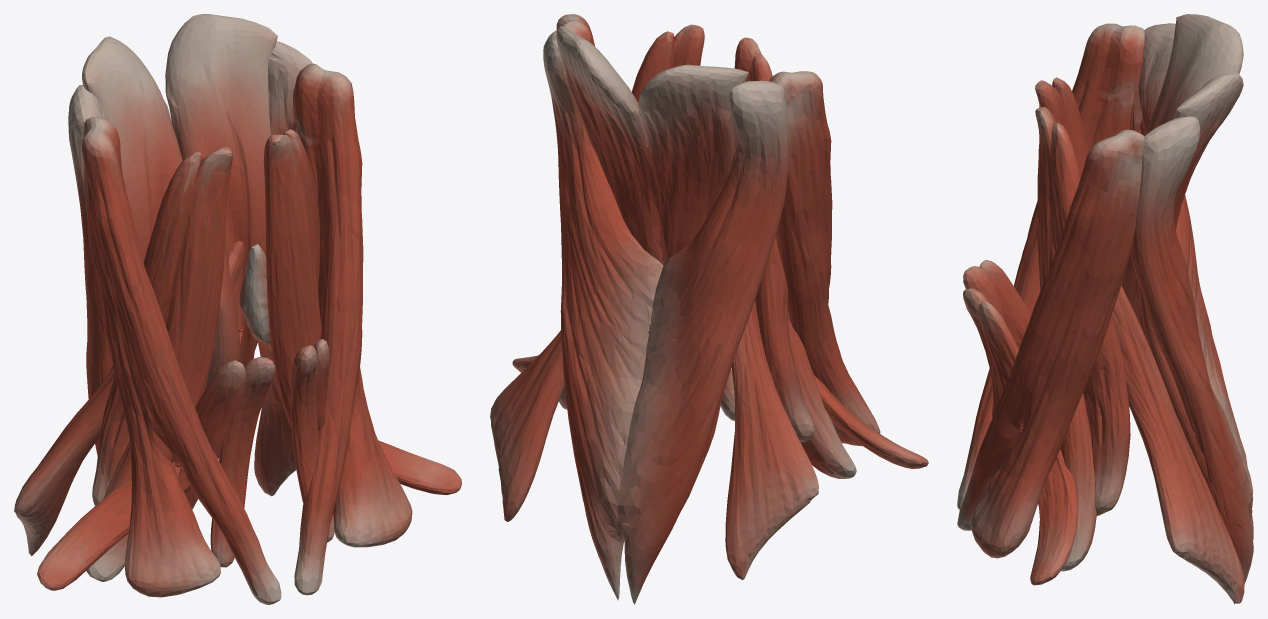
Rendered from SubTool-1-11410130.OBJ.
The picture shows the model from 3 angles, left to right: view 1: azimuth 30°, elevation 25°; view 2: azimuth 150°, elevation 25°; view 3: azimuth 270°, elevation 25°; orthographic projection. The views are drawn at different scales.
Visible parts, largest first — view 1: Group62197; view 2: Group62197; view 3: Group62197.
Part boxes in pixels (x1=…): Group62197: x1=14, y1=14, x2=461, y2=604; Group62197: x1=490, y1=14, x2=928, y2=604; Group62197: x1=957, y1=14, x2=1253, y2=604.
Size of the model in its own units: 7.99 by 10.11 by 4.93.
1 material, 1 textured.
